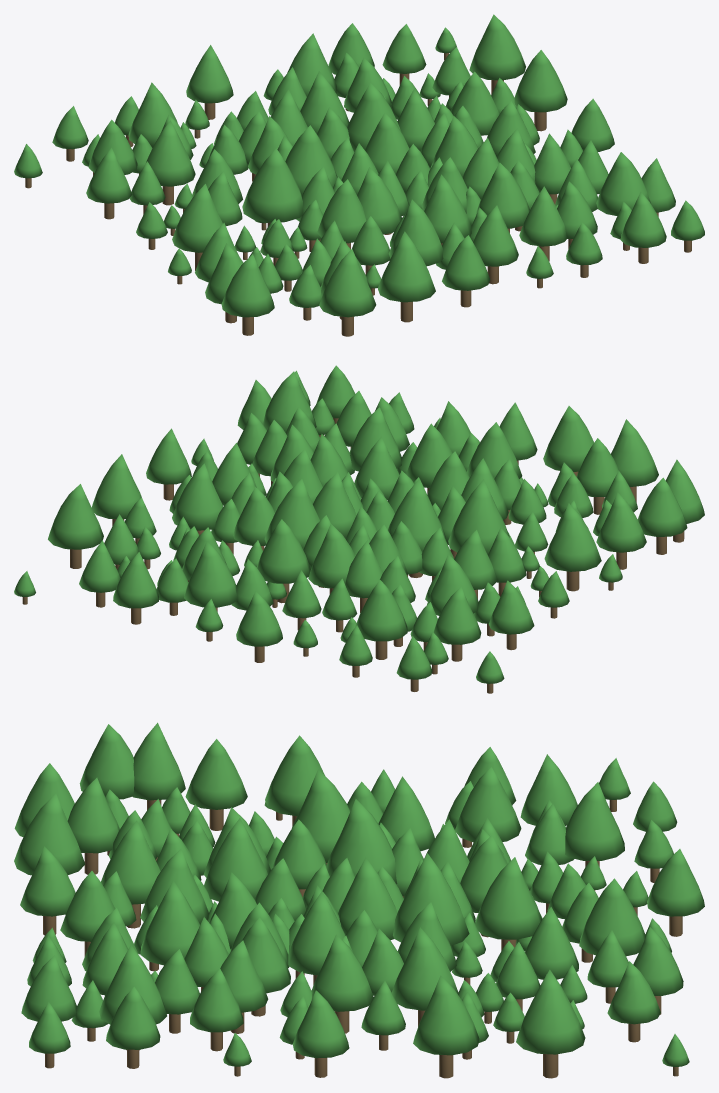
The model's file is Forest.fbx.
The picture shows the model from 3 angles, top to bottom: view 1: azimuth 30°, elevation 25°; view 2: azimuth 150°, elevation 25°; view 3: azimuth 270°, elevation 25°; orthographic projection. The views are drawn at different scales.
Visible parts, largest first — view 1: Forest; view 2: Forest; view 3: Forest.
Boxes of the visible parts, <box> form: Forest: <box>14,14,704,336</box>; Forest: <box>14,365,704,693</box>; Forest: <box>14,722,704,1078</box>.
Bounding box in the file's own units: 102 × 19.38 × 103.
